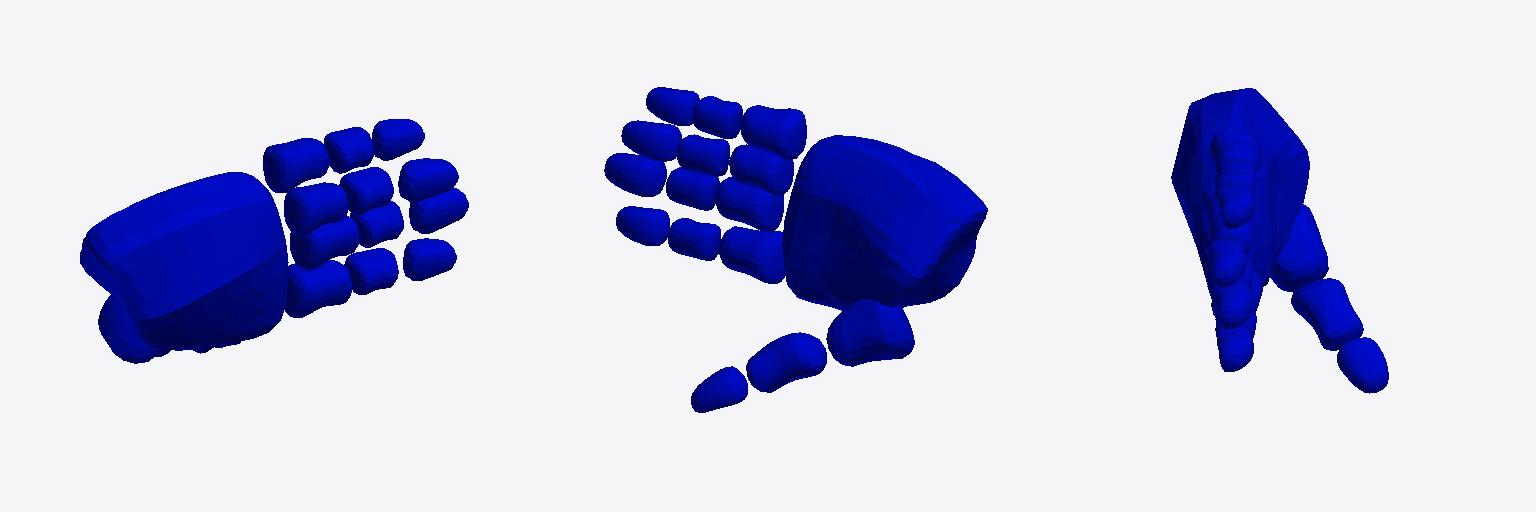
Rendered from L_Hand.obj.
3 views of the same model, side by side, from view 1: azimuth 30°, elevation 25°; view 2: azimuth 150°, elevation 25°; view 3: azimuth 270°, elevation 25° (orthographic).
Visible parts, largest first — view 1: L_Hand_Alpha_Surface.017; view 2: L_Hand_Alpha_Surface.017; view 3: L_Hand_Alpha_Surface.017.
Boxes of the visible parts, x1=… form: L_Hand_Alpha_Surface.017: x1=80, y1=119, x2=468, y2=363; L_Hand_Alpha_Surface.017: x1=604, y1=87, x2=987, y2=412; L_Hand_Alpha_Surface.017: x1=1171, y1=88, x2=1388, y2=393.
Size of the model in its own units: 0.2321 by 0.1502 by 0.1177.